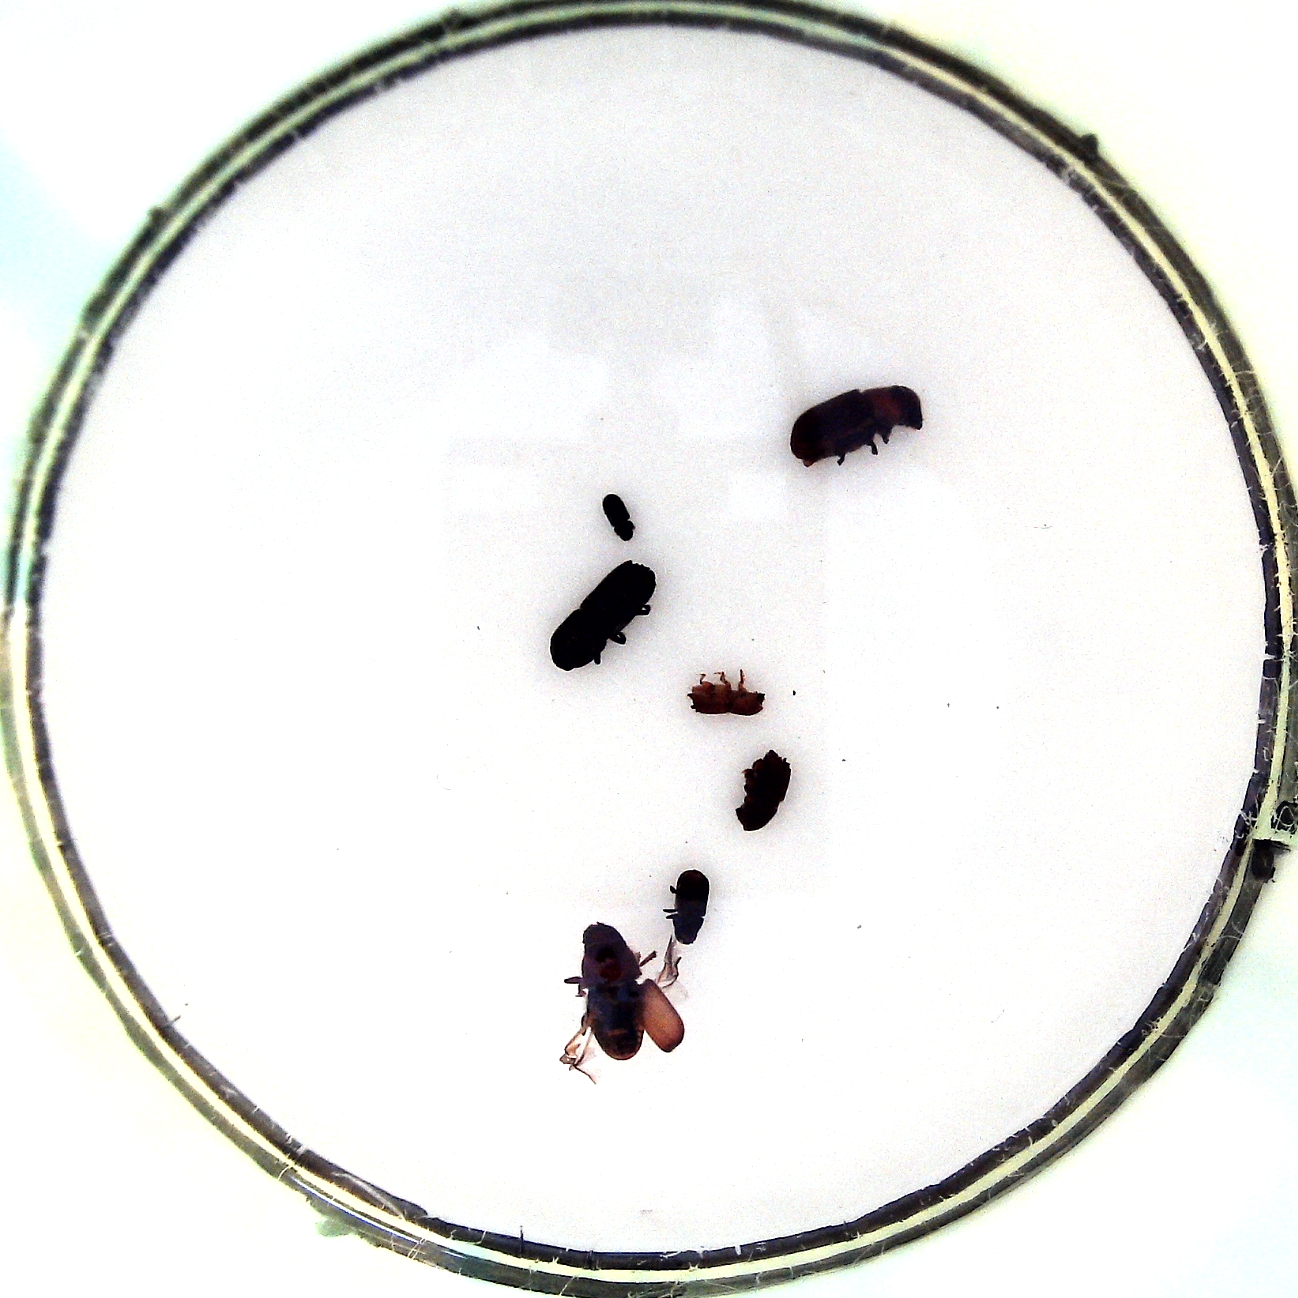Boerner: (546, 559, 664, 675)
Leconte: (553, 921, 683, 1083), (779, 383, 930, 475)
Linnaeus: (727, 750, 798, 842)
acuminatus: (688, 664, 770, 723)
armandi: (668, 861, 710, 946)
coleoptera: (601, 490, 638, 550)
